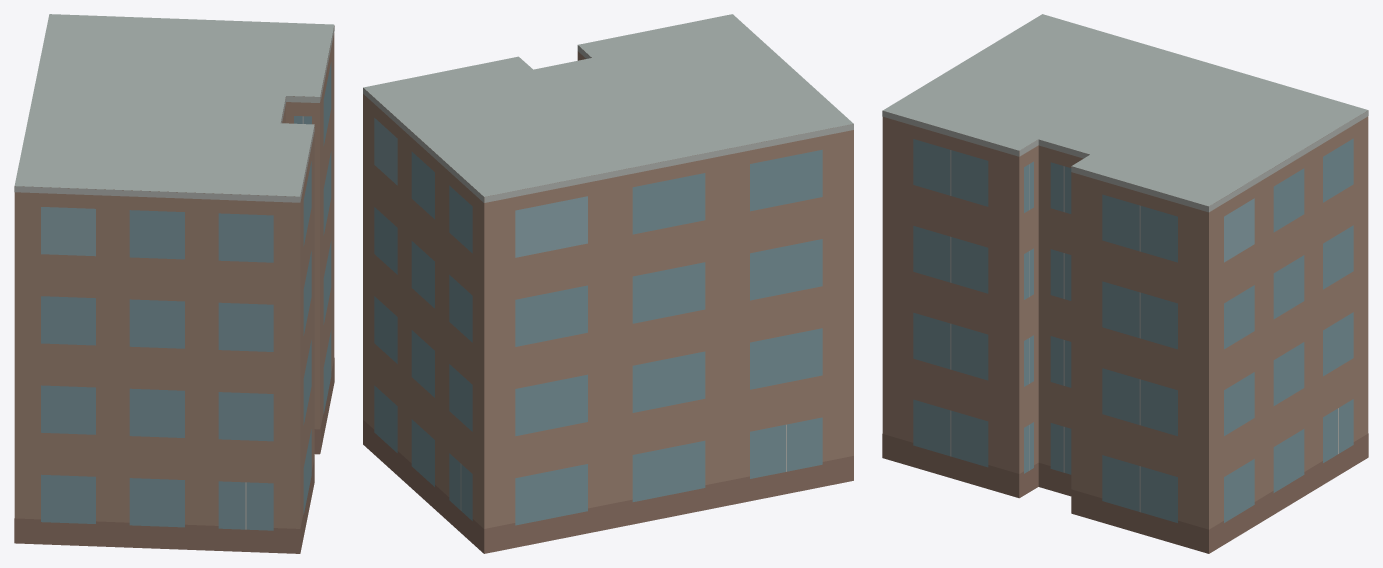
The model's file is survey-upis-33039052.glb.
The picture shows the model from 3 angles, left to right: view 1: azimuth 30°, elevation 25°; view 2: azimuth 150°, elevation 25°; view 3: azimuth 270°, elevation 25°; orthographic projection. The views are drawn at different scales.
Parts seen in each view (by area): view 1: survey-upis-33039052.tmp; view 2: survey-upis-33039052.tmp; view 3: survey-upis-33039052.tmp.
Boxes of the visible parts, x1,y1,x2,y2 form: survey-upis-33039052.tmp: [14, 14, 334, 553]; survey-upis-33039052.tmp: [363, 14, 853, 553]; survey-upis-33039052.tmp: [882, 14, 1368, 553].
Bounding box in the file's own units: 16.82 × 14.15 × 17.94.
